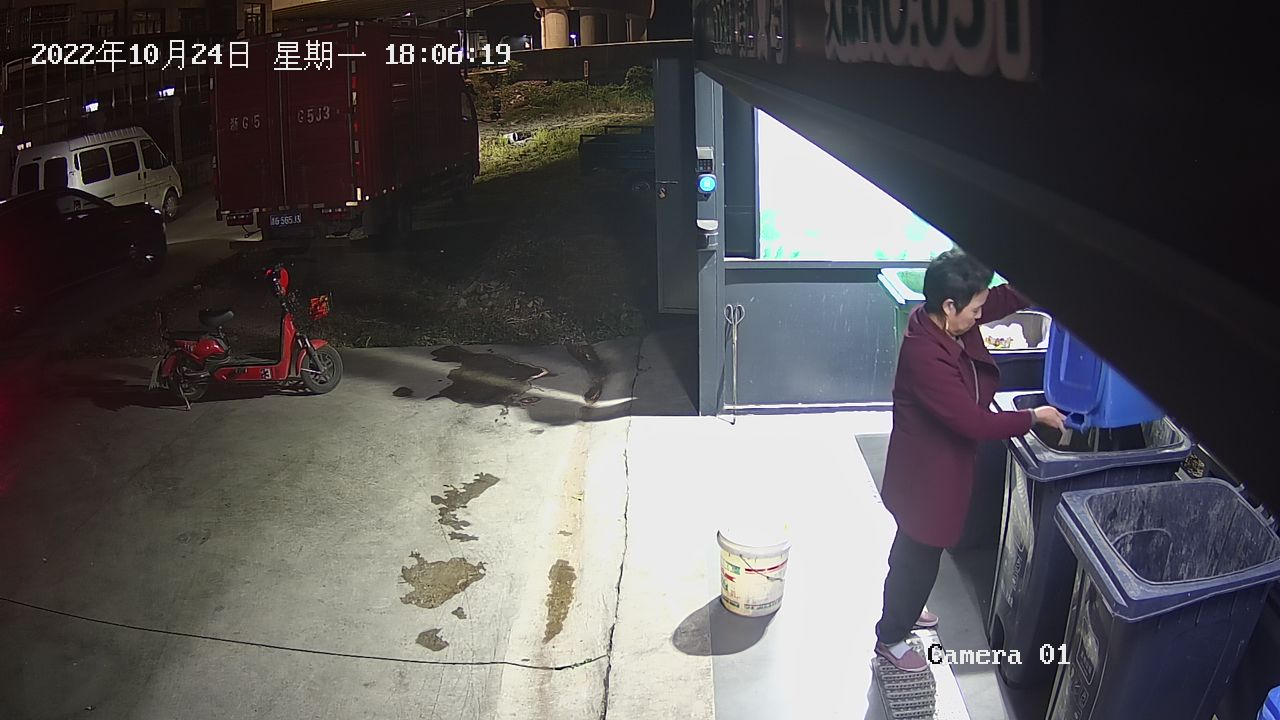person: (873, 246, 1068, 673)
youtong: (713, 518, 791, 619)
